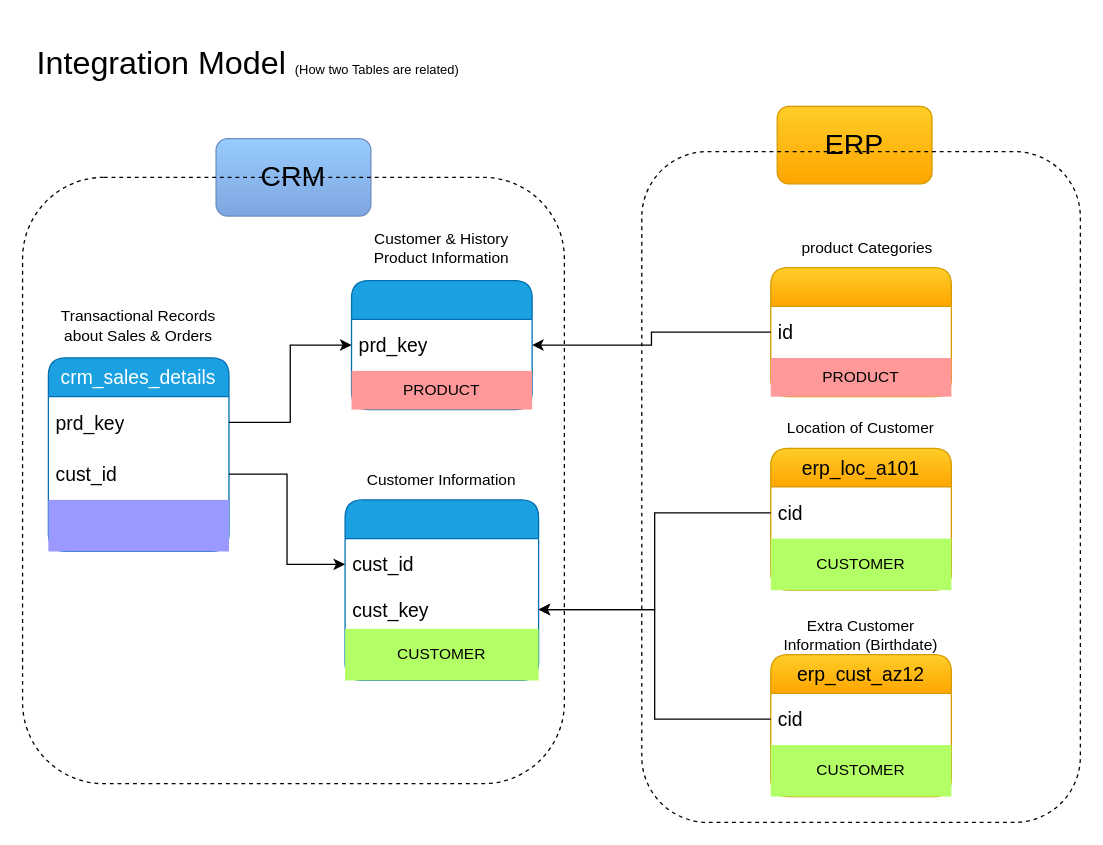
Image size: 1103x845. Some labels were removed from this diagram. Here are the shapes that lost their labels. From the top down, the box of each, then its label:
(350, 279, 532, 410): crm_prd_info
(769, 266, 951, 397): erp_px_cat_g1v2
(48, 499, 228, 551): SALES
(344, 499, 539, 680): crm_cust_info
